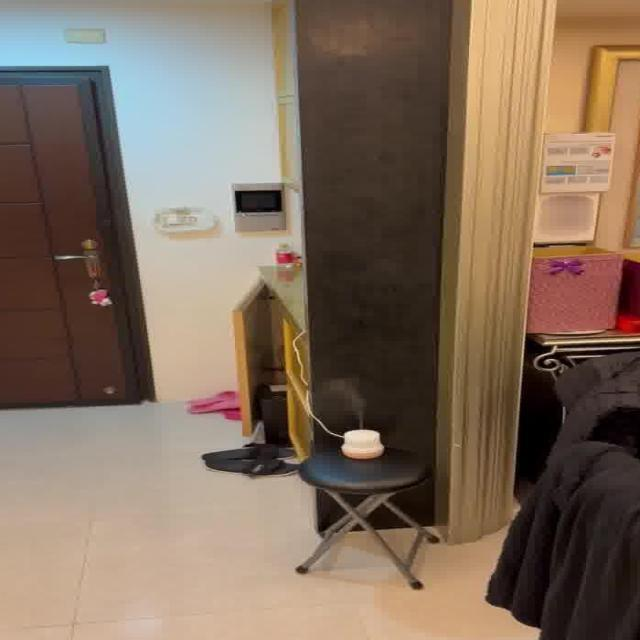fire: (328, 376, 369, 422)
